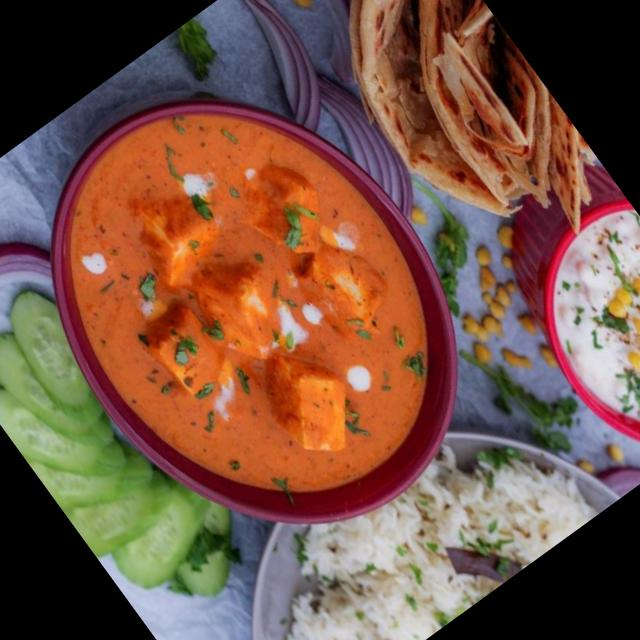rice: (320, 531, 449, 640)
roti: (334, 0, 577, 209)
